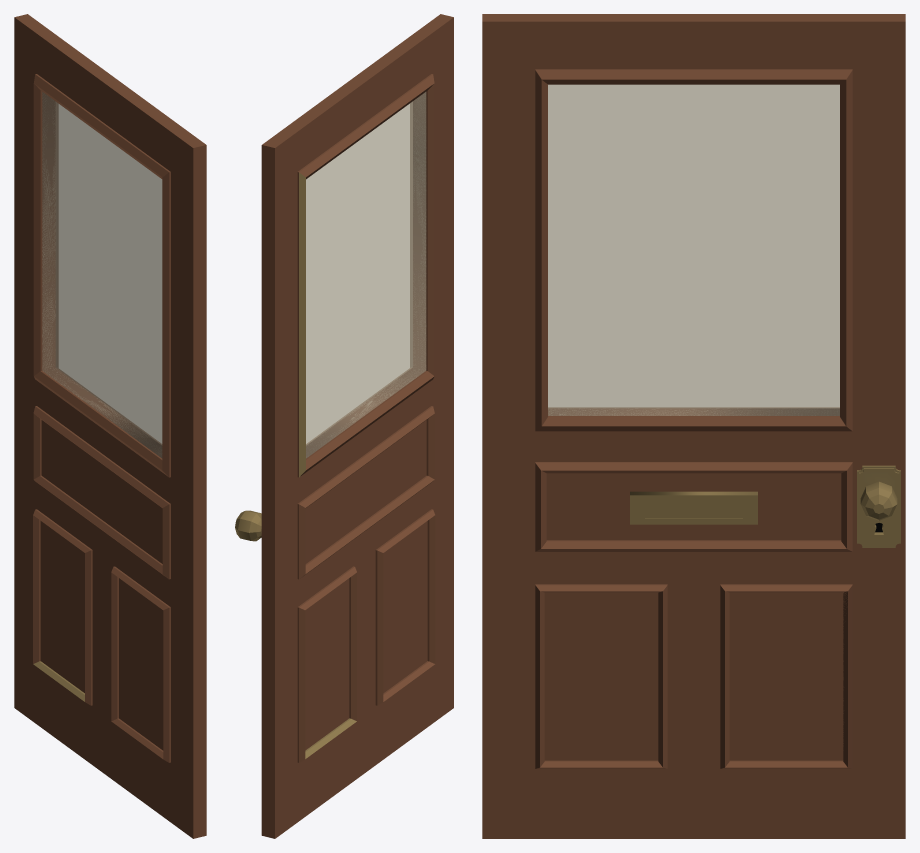
The model's file is portafixed 1.fbx.
3 views of the same model, side by side, from view 1: azimuth 30°, elevation 25°; view 2: azimuth 150°, elevation 25°; view 3: azimuth 270°, elevation 25° (orthographic). The views are drawn at different scales.
Visible parts, largest first — view 1: Porta, Porta.002; view 2: Porta, Porta.002; view 3: Porta, Porta.002, Plane.001.
Boxes of the visible parts, x1,y1,x2,y2 form: Porta: (14,14,206,838); Porta.002: (42,92,162,457); Porta: (235,14,453,838); Porta.002: (306,92,426,458); Porta: (482,14,905,838); Porta.002: (548,84,839,415); Plane.001: (645,501,742,518).
Size of the model in its own units: 26.88 by 327 by 153.
